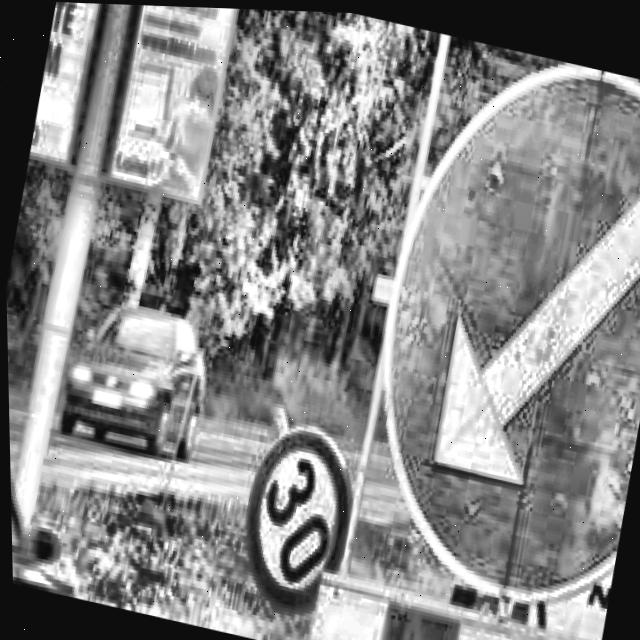light_vehicle: (41, 260, 247, 489)
